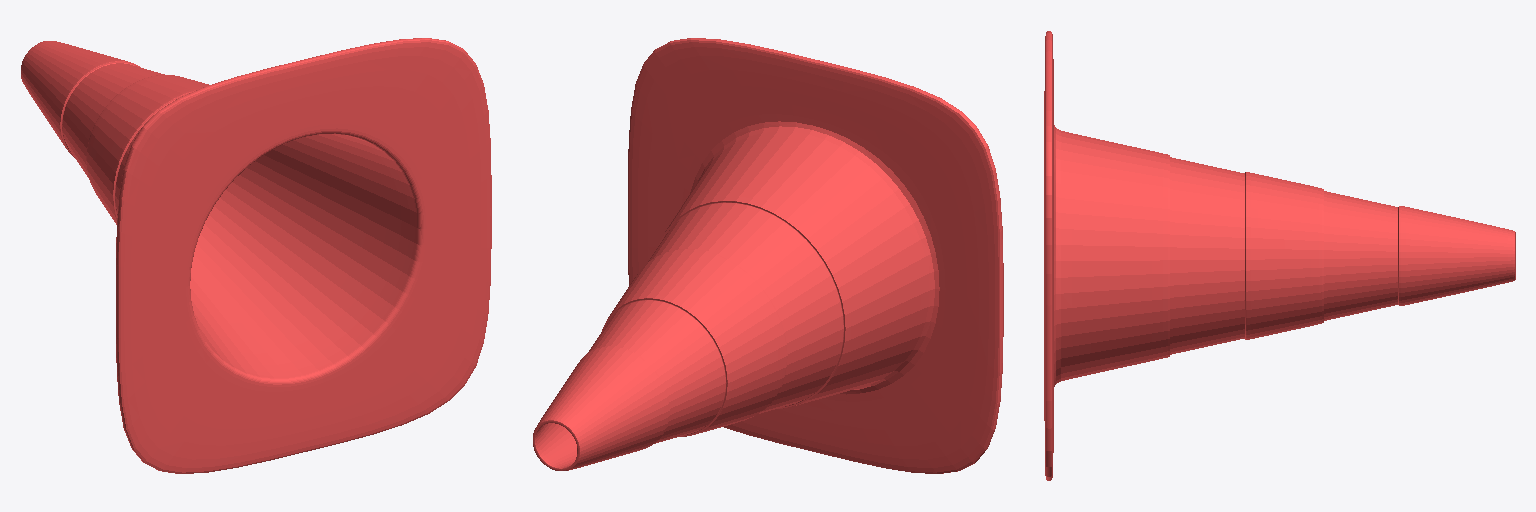
robot.urdf — cube.urdf:
<?xml version="1.0" ?>
<robot name="cube.urdf">
  <link name="baseLink">
    <contact>
      <lateral_friction value="0.5"/>
      <rolling_friction value="0.0"/>
      <contact_cfm value="0.0"/>
      <contact_erp value="1.0"/>
    </contact>
    <inertial>
      <origin rpy="0 0 0" xyz="0.07 0.05 0.03"/>
       <mass value=".1"/>
       <inertia ixx="1" ixy="0" ixz="0" iyy="1" iyz="0" izz="1"/>
    </inertial>
    <visual>
      <origin rpy="0 0 0" xyz="0 0 0"/>
      <geometry>
        <mesh filename="cone.obj" scale=".1 .1 .1"/>
      </geometry>
       <material name="red">
        <color rgba="1 0.4 0.4 1"/>
      </material>
    </visual>
    <collision>
      <origin rpy="0 0 0" xyz="0 0 0"/>
      <geometry>
	 	<mesh filename="cone.obj" scale=".1 .1 .1"/>
      </geometry>
    </collision>
  </link>
</robot>

--- Facts derived from the render (not from the file) ---
Views: 3 orthographic renders of the robot side by side, from view 1: azimuth 30°, elevation 25°; view 2: azimuth 150°, elevation 25°; view 3: azimuth 270°, elevation 25°.
Robot: cube.urdf — 1 links, 0 joints (none); root link baseLink; default pose: every joint at zero.
Visible links, largest first — view 1: baseLink; view 2: baseLink; view 3: baseLink.
Link boxes in pixels (x1,y1,x2,y2): baseLink: (21, 38, 491, 473); baseLink: (533, 38, 1003, 473); baseLink: (1044, 31, 1515, 480).
Bounding box of the posed robot: 50.38 × 61.2 × 50.38 m (x, y, z).
1 mesh visuals loaded from 1 distinct referenced files (1 OBJ).